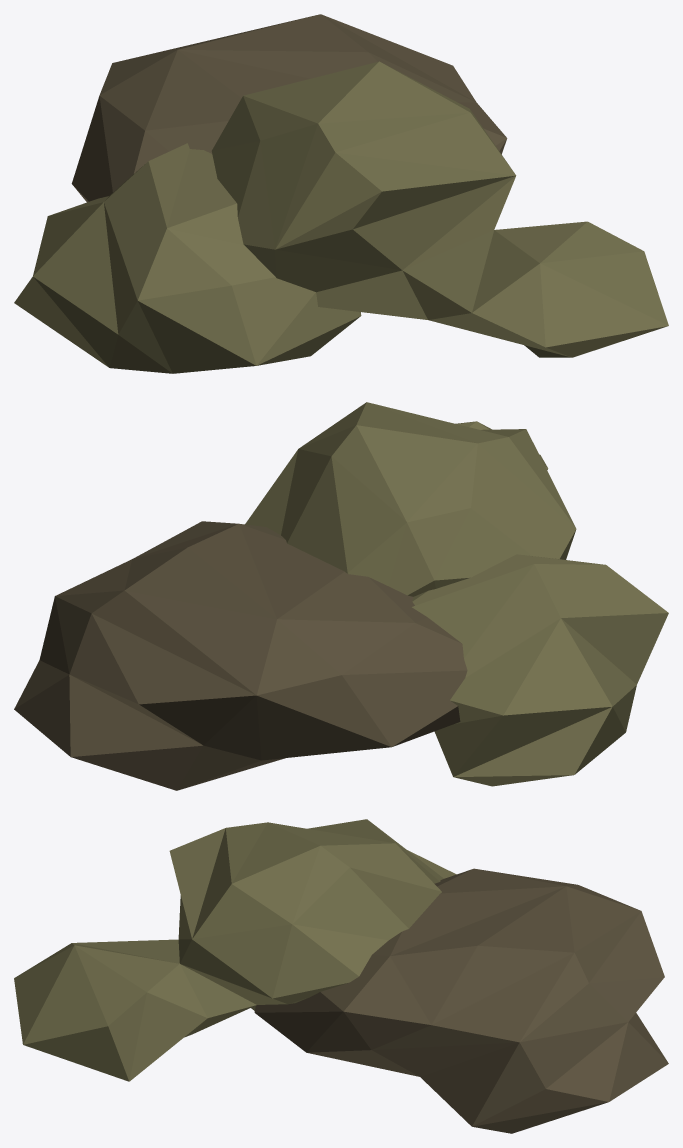
The model's file is SM_Env_Bush_Large_05.fbx.
3 views of the same model, one above another, from view 1: azimuth 30°, elevation 25°; view 2: azimuth 150°, elevation 25°; view 3: azimuth 270°, elevation 25° (orthographic). The views are drawn at different scales.
Visible parts, largest first — view 1: SM_Env_Bush_Large_05; view 2: SM_Env_Bush_Large_05; view 3: SM_Env_Bush_Large_05.
Part boxes in pixels (x1,y1,x2,y2): SM_Env_Bush_Large_05: (14, 14, 668, 373); SM_Env_Bush_Large_05: (14, 402, 668, 790); SM_Env_Bush_Large_05: (14, 819, 668, 1133).
Size of the model in its own units: 467 by 229 by 607.
